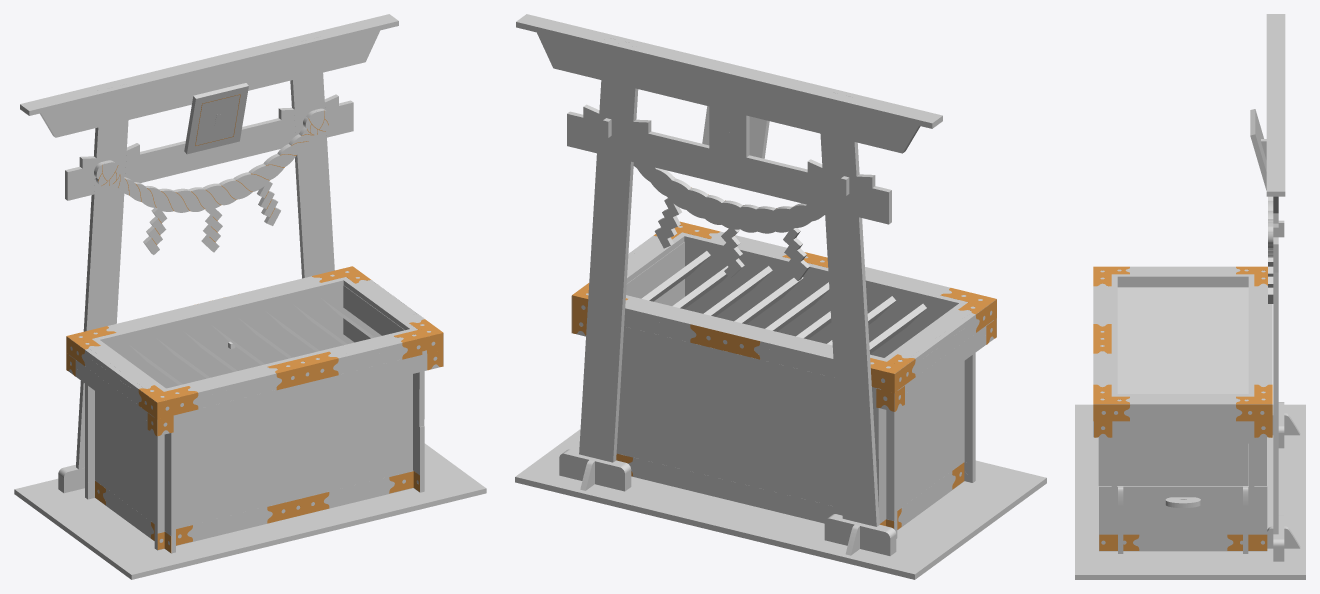
The model's file is saisen.glb.
The picture shows the model from 3 angles, left to right: view 1: azimuth 30°, elevation 25°; view 2: azimuth 150°, elevation 25°; view 3: azimuth 270°, elevation 25°; orthographic projection. The views are drawn at different scales.
Visible parts, largest first — view 1: 本体, 茶色; view 2: 本体, 茶色; view 3: 本体, 茶色.
Boxes of the visible parts, left/top/right/bottom form: 本体: left=14, top=14, right=486, bottom=579; 茶色: left=66, top=94, right=443, bottom=552; 本体: left=515, top=14, right=1046, bottom=579; 茶色: left=571, top=187, right=996, bottom=529; 本体: left=1075, top=14, right=1305, bottom=579; 茶色: left=1093, top=266, right=1272, bottom=550.
Size of the model in its own units: 156 by 163 by 85.56.
